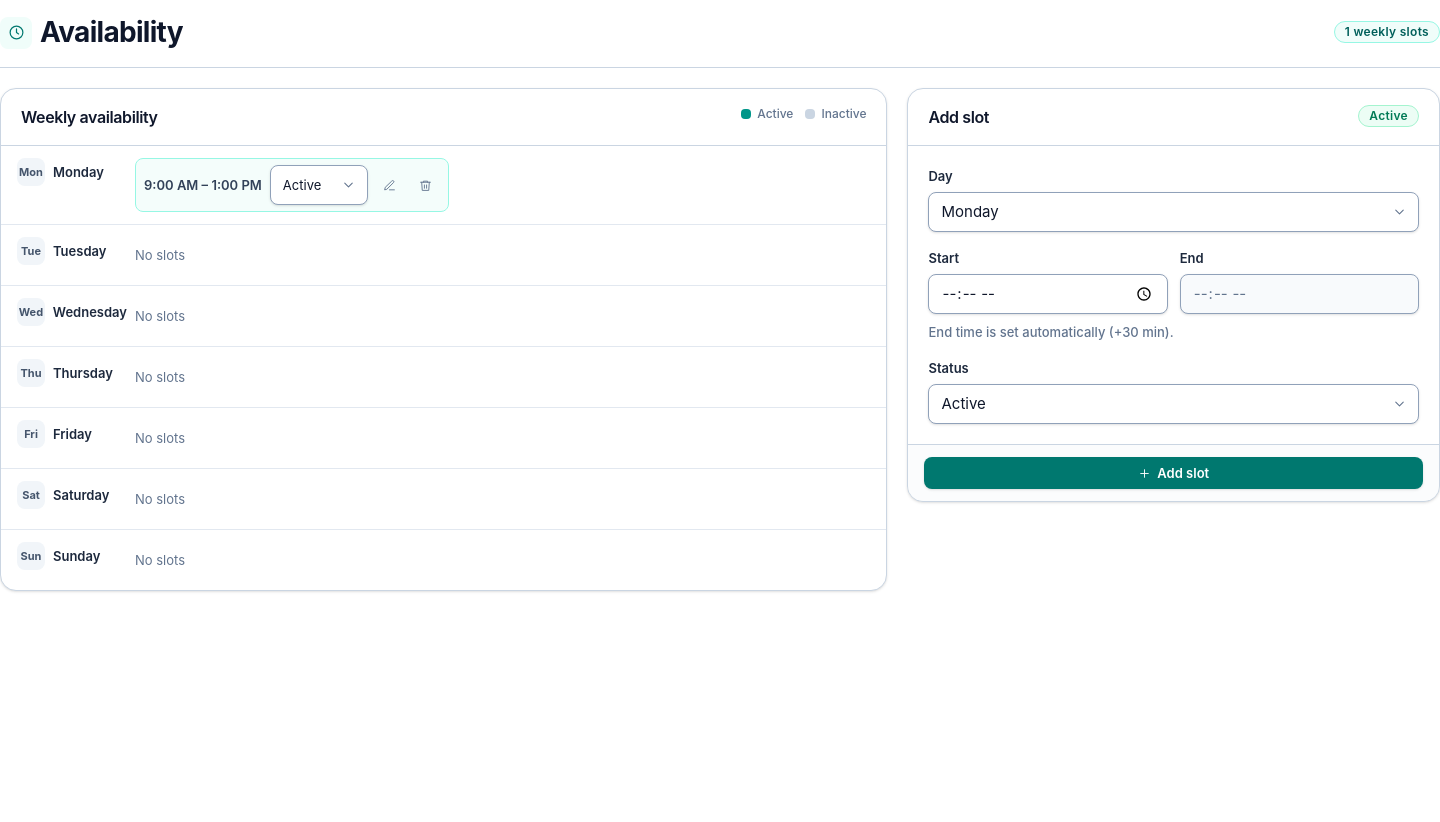
Test: availability slots › shows saved and selected times with AM/PM on a 12-hour clock
Expected: the text "9:00 AM – 1:00 PM" is shown, [144,175,262,195]
Type "09:30" into the time field labelled "Start" at {"x": 1048, "y": 294}, box [928,274,1168,314]
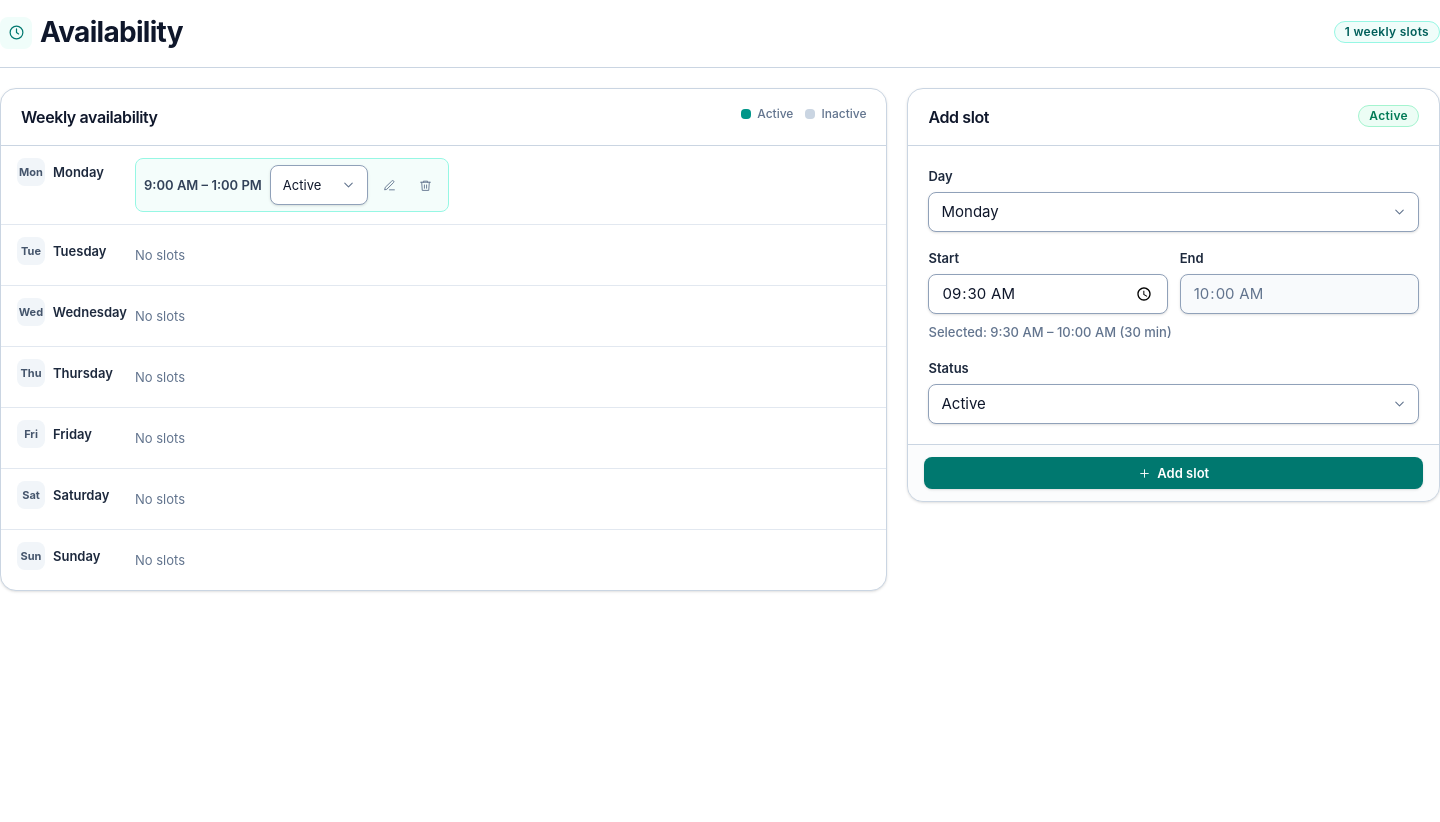
Expected: the text "Selected: 9:30 AM – 10:00 AM (30 min)" is shown, [928,324,1172,340]
